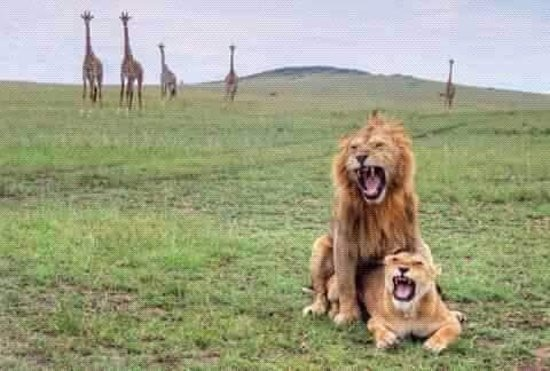giraffe: (115, 8, 147, 113), (74, 9, 108, 105), (155, 38, 181, 101), (437, 57, 462, 112), (220, 41, 241, 103)
lion: (300, 105, 448, 329), (299, 246, 466, 355)
